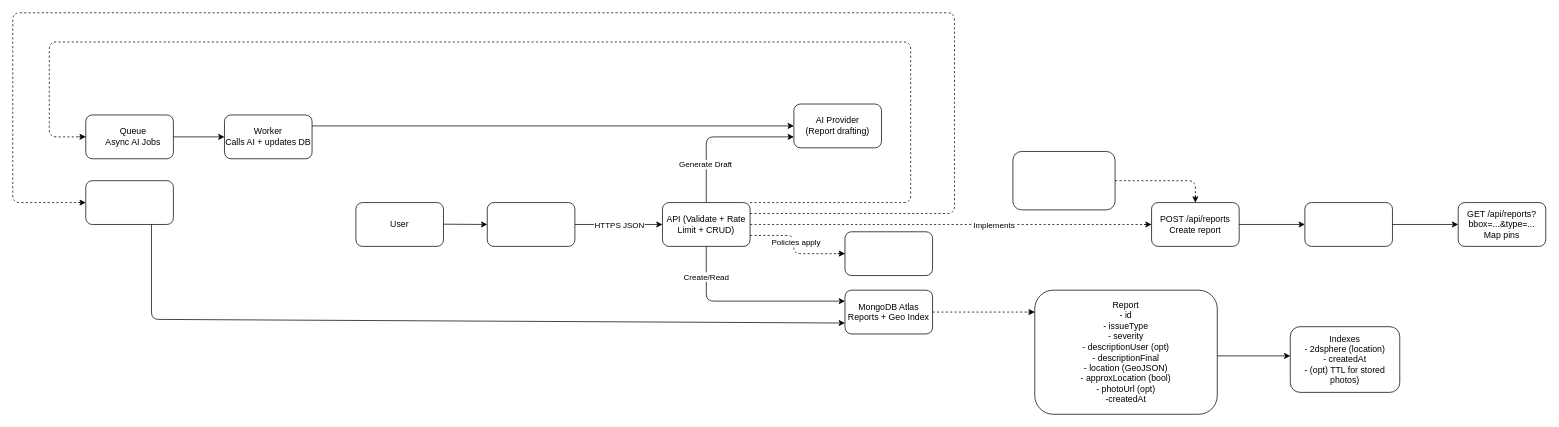
This 1559x427 diagram has some shape labels left out. The centre of each missing label's shape, as x and y in pixels:
Fixr Web App (Create --> Review --> Share --> Map): the point at 531,224
GET /api/reports/:id Share page: the point at 1348,224
POST /api/generate (optional) Draft text can be folded into POST /reports: the point at 1063,180
Privacy + Safety No login / No PII Approx location Emergency warning: the point at 888,253
Redis Cache - map queries - rate limit counters: the point at 129,202
